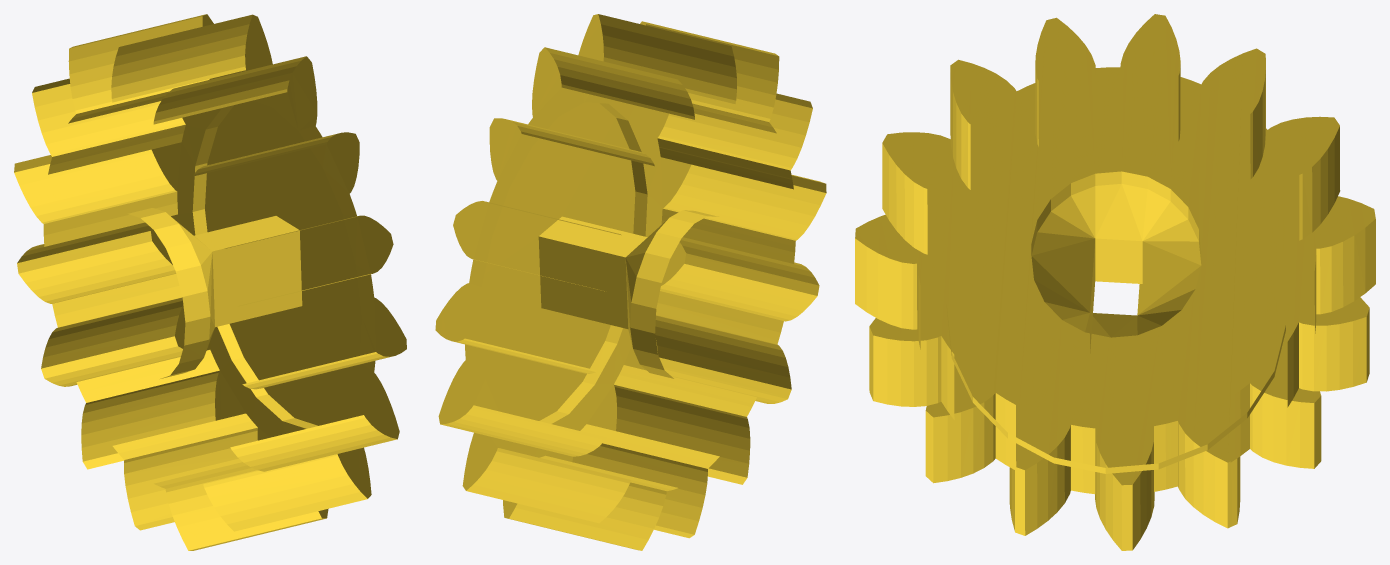
File: G-__564753.011.dae.full.glb
3 views of the same model, side by side, from view 1: azimuth 30°, elevation 25°; view 2: azimuth 150°, elevation 25°; view 3: azimuth 270°, elevation 25° (orthographic).
Bounding box in the file's own units: 0.0675 × 0.2062 × 0.2064.
